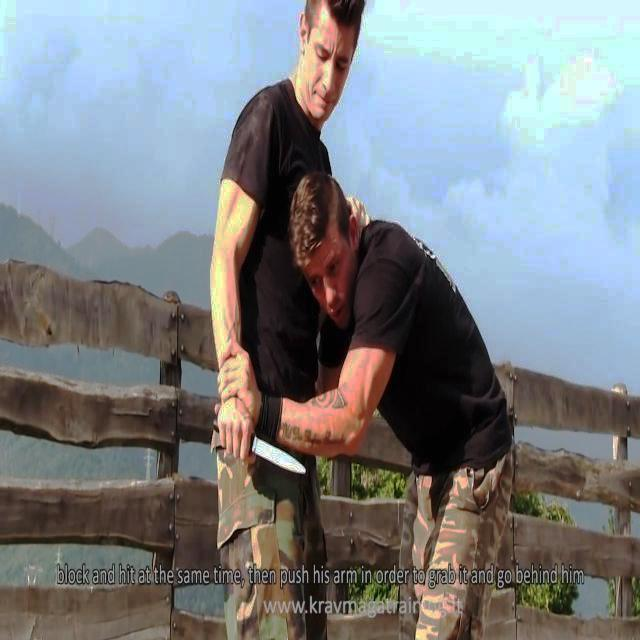Knife: (204, 437, 312, 485)
